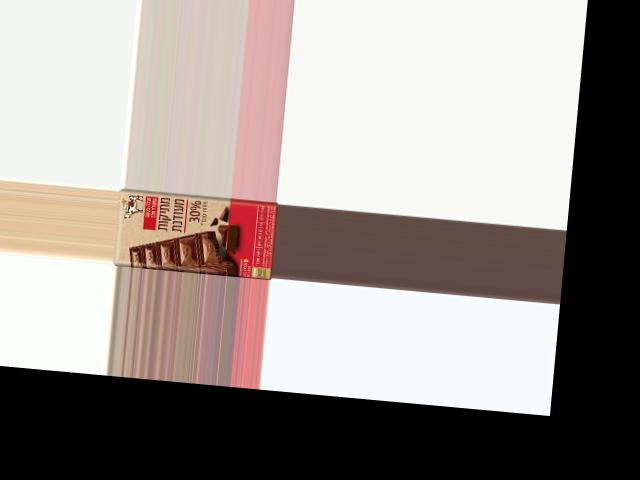chocolate: (112, 187, 277, 279)
